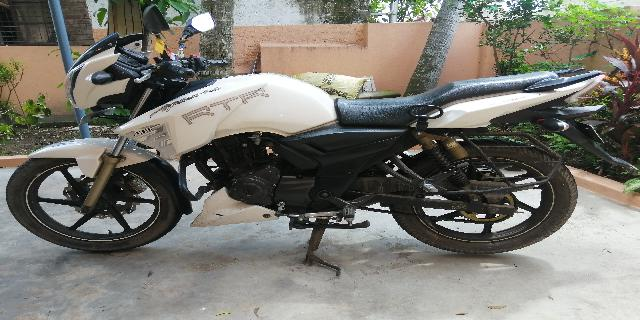Motorbike: (7, 3, 613, 272)
